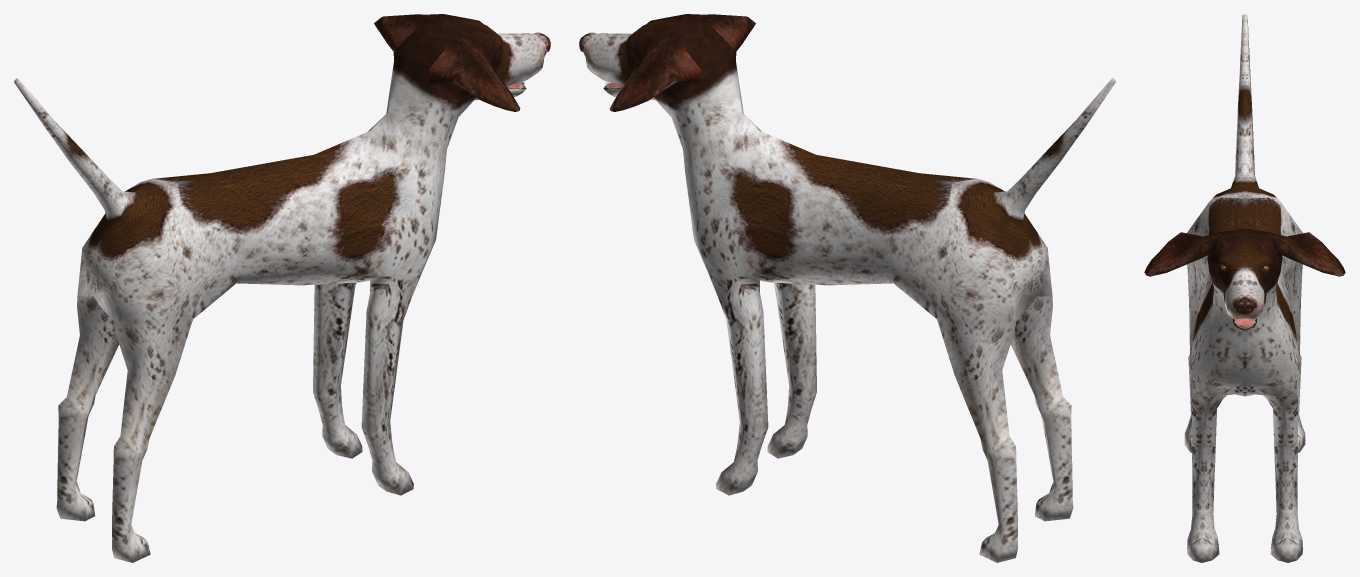
Rendered from pes_lovecky.glb.
3 renders of one model, left to right at view 1: azimuth 30°, elevation 25°; view 2: azimuth 150°, elevation 25°; view 3: azimuth 270°, elevation 25°, orthographic. The views are drawn at different scales.
Parts seen in each view (by area): view 1: Dog_Dog_0; view 2: Dog_Dog_0; view 3: Dog_Dog_0.
Boxes of the visible parts, x1,y1,x2,y2 form: Dog_Dog_0: (14,14,550,562); Dog_Dog_0: (579,14,1115,562); Dog_Dog_0: (1144,14,1345,562).
Bounding box in the file's own units: 0.8167 × 0.7 × 0.3205.
1 material, 1 textured.
